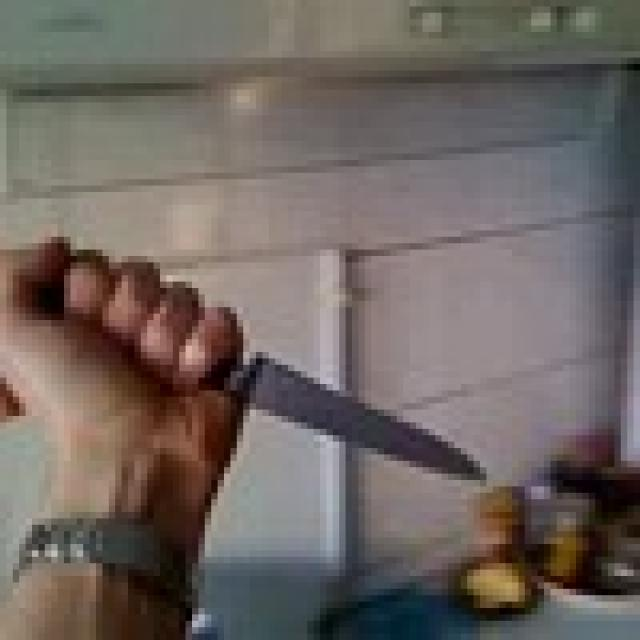Knife: (32, 243, 493, 493)
